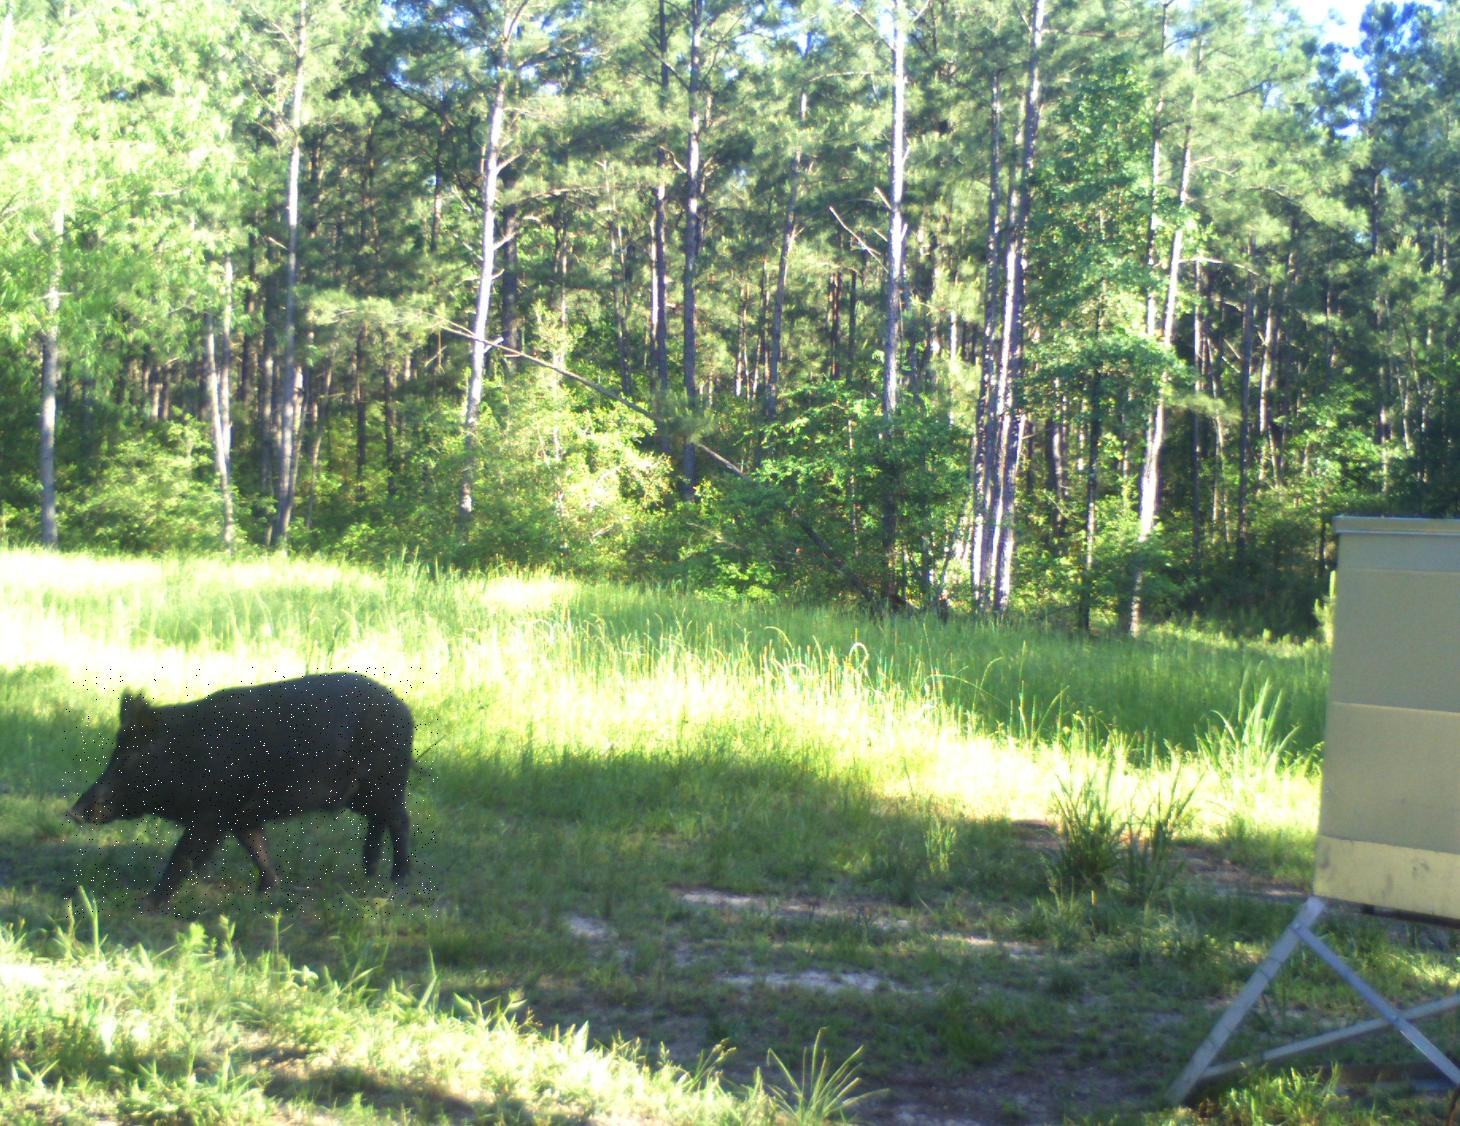Hog: (61, 667, 437, 919)
